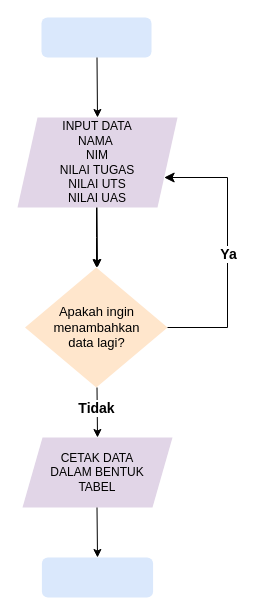
Image size: 255x614. Some labels were removed from this diagram. Here are the shapes that lost their labels. From the top down, the box of each, then its label:
(41, 17, 151, 57): MULAI
(41, 557, 153, 597): SELESAI
